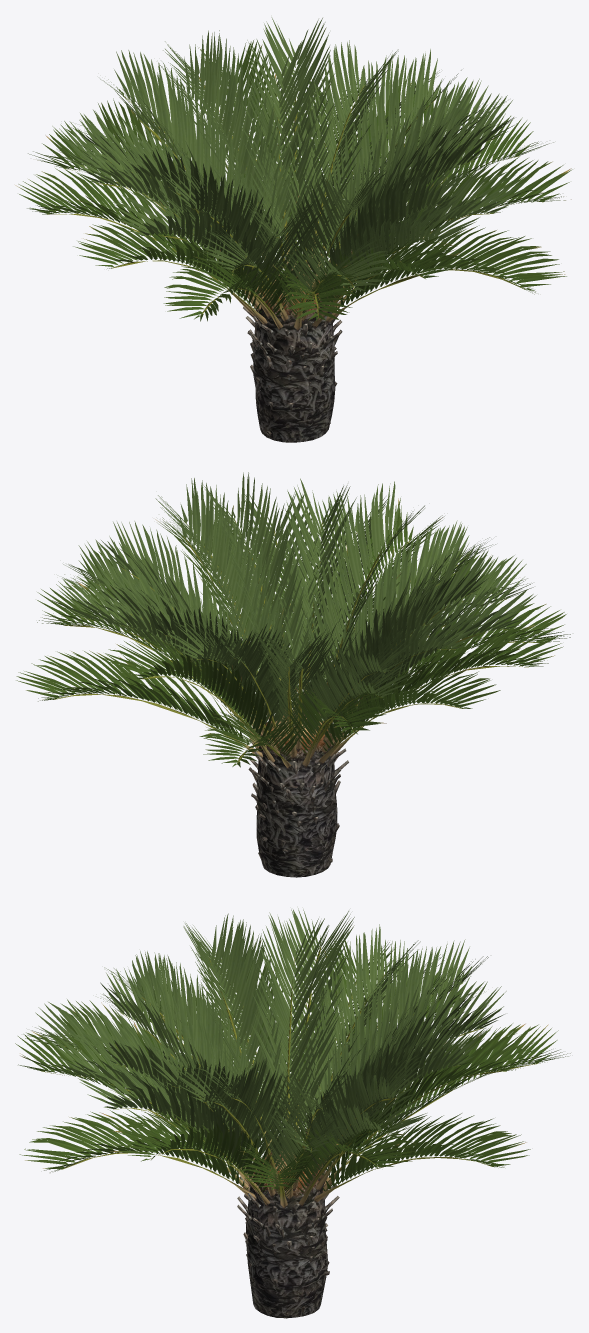
The model's file is cycas.glb.
3 renders of one model, top to bottom at view 1: azimuth 30°, elevation 25°; view 2: azimuth 150°, elevation 25°; view 3: azimuth 270°, elevation 25°, orthographic. The views are drawn at different scales.
Parts seen in each view (by area): view 1: Cycas_revoluta_HD_Cycas Leaflet 01_0, Cycas_revoluta_HD_Cycas Leaflet 02_0, Cycas_revoluta_HD_Cycas trunk_0, Cycas_revoluta_HD_Cycas leaf stalk_0, Cycas_revoluta_HD_Cycas crowshaft_0, Cycas_revoluta_HD_Cycas dead leaf stalk 01_0; view 2: Cycas_revoluta_HD_Cycas Leaflet 01_0, Cycas_revoluta_HD_Cycas Leaflet 02_0, Cycas_revoluta_HD_Cycas trunk_0, Cycas_revoluta_HD_Cycas leaf stalk_0, Cycas_revoluta_HD_Cycas crowshaft_0, Cycas_revoluta_HD_Cycas dead leaf stalk 01_0; view 3: Cycas_revoluta_HD_Cycas Leaflet 01_0, Cycas_revoluta_HD_Cycas Leaflet 02_0, Cycas_revoluta_HD_Cycas trunk_0, Cycas_revoluta_HD_Cycas leaf stalk_0, Cycas_revoluta_HD_Cycas crowshaft_0, Cycas_revoluta_HD_Cycas dead leaf stalk 01_0.
Boxes of the visible parts, left/top/right/bottom form: Cycas_revoluta_HD_Cycas Leaflet 01_0: left=52, top=17, right=526, bottom=309; Cycas_revoluta_HD_Cycas Leaflet 02_0: left=15, top=40, right=572, bottom=321; Cycas_revoluta_HD_Cycas trunk_0: left=253, top=335, right=335, bottom=442; Cycas_revoluta_HD_Cycas leaf stalk_0: left=47, top=64, right=543, bottom=331; Cycas_revoluta_HD_Cycas crowshaft_0: left=254, top=290, right=333, bottom=350; Cycas_revoluta_HD_Cycas dead leaf stalk 01_0: left=243, top=306, right=342, bottom=437; Cycas_revoluta_HD_Cycas Leaflet 01_0: left=52, top=472, right=536, bottom=748; Cycas_revoluta_HD_Cycas Leaflet 02_0: left=16, top=498, right=570, bottom=767; Cycas_revoluta_HD_Cycas trunk_0: left=256, top=772, right=337, bottom=877; Cycas_revoluta_HD_Cycas leaf stalk_0: left=53, top=519, right=539, bottom=768; Cycas_revoluta_HD_Cycas crowshaft_0: left=258, top=736, right=334, bottom=787; Cycas_revoluta_HD_Cycas dead leaf stalk 01_0: left=248, top=740, right=348, bottom=863; Cycas_revoluta_HD_Cycas Leaflet 01_0: left=25, top=908, right=506, bottom=1188; Cycas_revoluta_HD_Cycas Leaflet 02_0: left=15, top=938, right=570, bottom=1197; Cycas_revoluta_HD_Cycas trunk_0: left=246, top=1212, right=327, bottom=1318; Cycas_revoluta_HD_Cycas leaf stalk_0: left=41, top=945, right=537, bottom=1208; Cycas_revoluta_HD_Cycas crowshaft_0: left=247, top=1169, right=325, bottom=1227; Cycas_revoluta_HD_Cycas dead leaf stalk 01_0: left=237, top=1172, right=339, bottom=1318.
Size of the model in its own units: 0.6915 by 0.4433 by 0.7049.
Materials: 7 (7 with a texture image).
